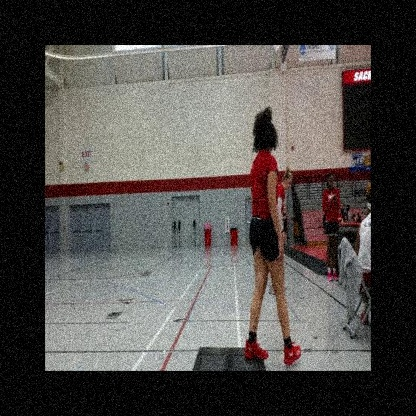lateral_flexion_right: (243, 106, 304, 371)
stance_width_broad: (243, 150, 302, 371)
